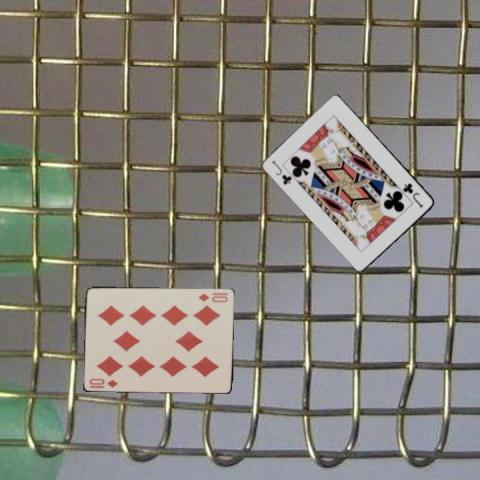10d: (87, 376, 119, 390), (196, 291, 229, 303)
Jc: (400, 180, 424, 209), (269, 157, 293, 186)
